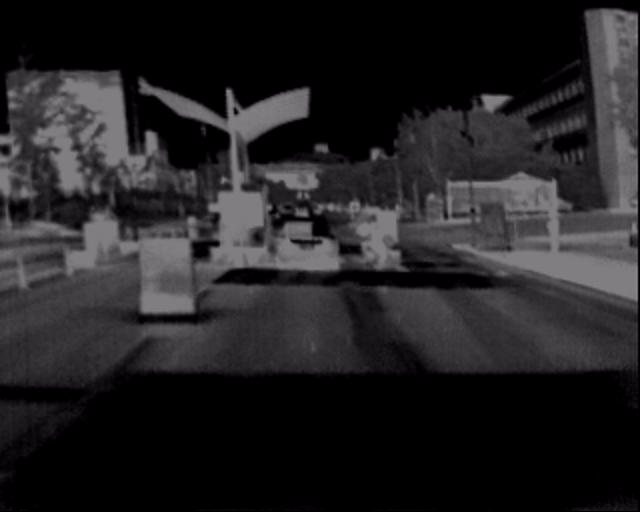person: (543, 208, 567, 262)
